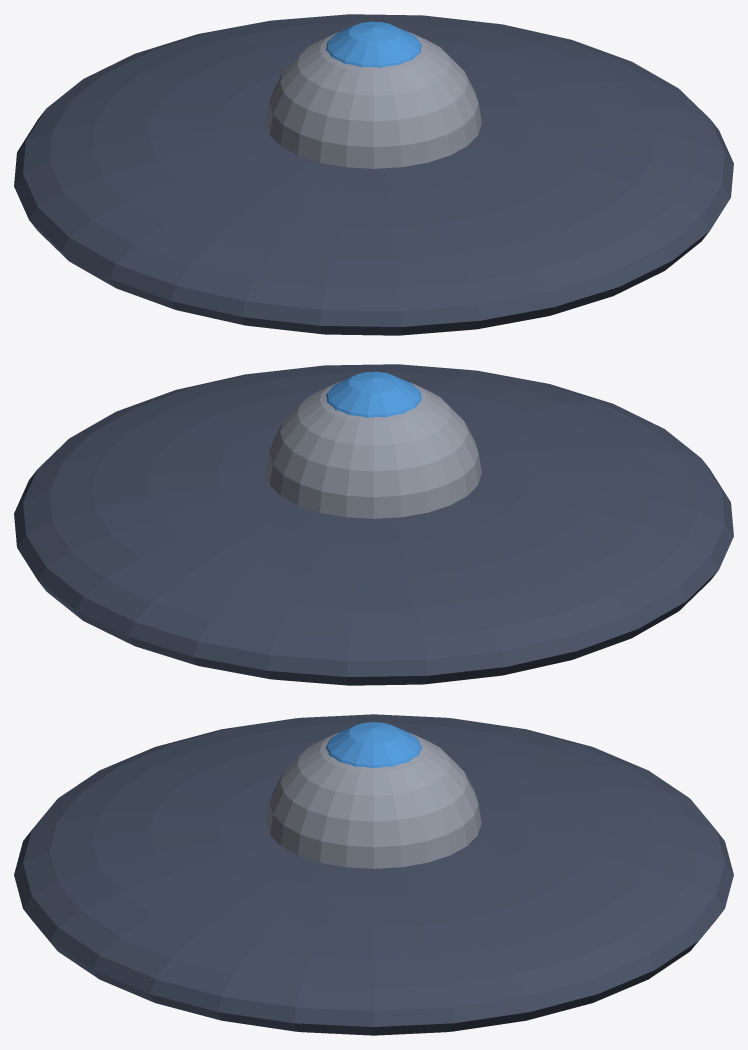
The model's file is mothership.glb.
The picture shows the model from 3 angles, top to bottom: view 1: azimuth 30°, elevation 25°; view 2: azimuth 150°, elevation 25°; view 3: azimuth 270°, elevation 25°; orthographic projection.
Parts seen in each view (by area): view 1: mothership; view 2: mothership; view 3: mothership.
Boxes of the visible parts, left/top/right/bottom form: mothership: left=14, top=14, right=733, bottom=335; mothership: left=14, top=364, right=733, bottom=685; mothership: left=14, top=714, right=733, bottom=1035.
Bounding box in the file's own units: 2 × 0.6831 × 2.
